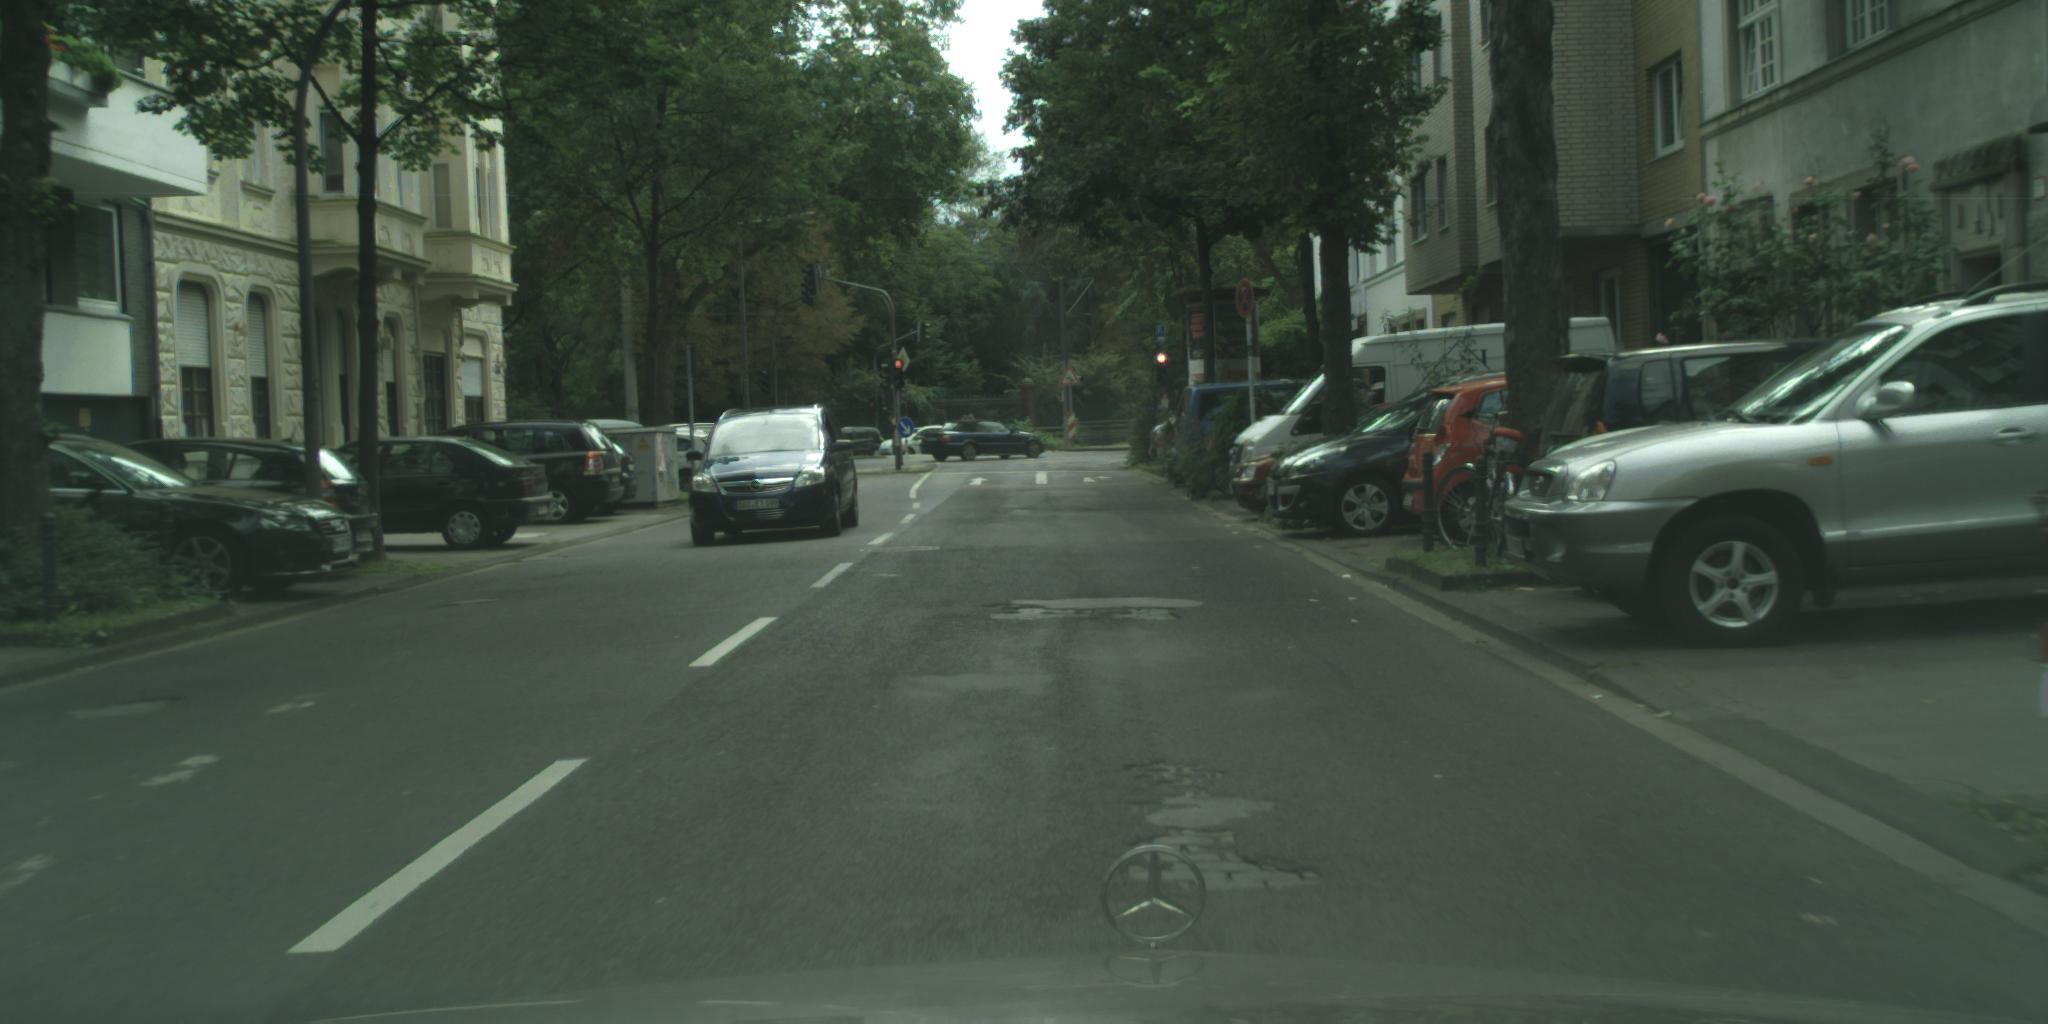bicycle: (1435, 410, 1535, 566)
car: (1498, 276, 2045, 656), (1226, 313, 1625, 503), (33, 427, 367, 605), (1531, 330, 1872, 485), (114, 438, 391, 569), (1262, 381, 1463, 539), (1398, 360, 1544, 550), (329, 434, 560, 552), (684, 401, 859, 550), (421, 415, 631, 529), (1230, 397, 1415, 517), (1168, 374, 1322, 491), (920, 419, 1048, 464), (661, 415, 720, 495), (590, 435, 643, 522), (878, 421, 967, 457), (1138, 409, 1192, 468), (832, 422, 893, 464), (584, 417, 649, 434)
